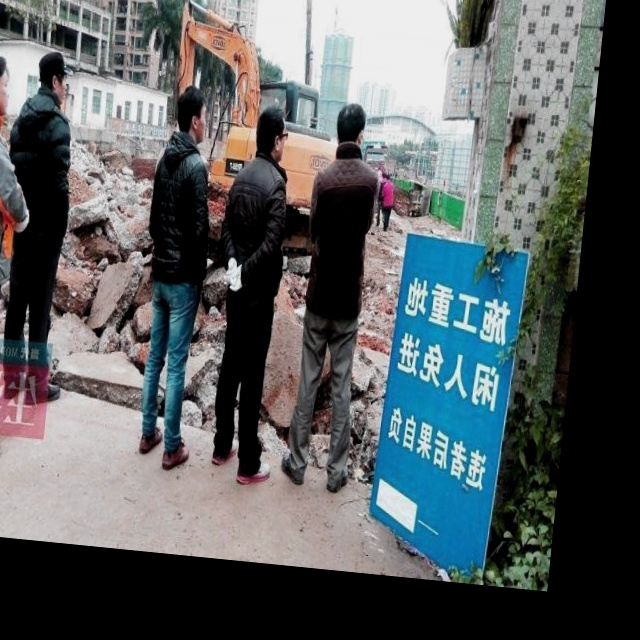Sin_Casco_Mascarrilla: (253, 103, 293, 160), (333, 98, 369, 159), (174, 82, 210, 141)
Sin_Chaleco: (298, 158, 381, 322), (140, 136, 217, 289), (214, 157, 292, 305)
